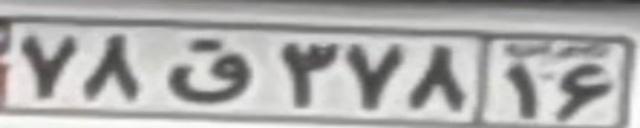1: (498, 63, 539, 118)
3: (279, 41, 338, 108)
6: (549, 60, 616, 119)
7: (17, 33, 75, 102), (347, 42, 400, 109)
8: (83, 33, 139, 100), (408, 44, 464, 110)
ghaf: (168, 39, 252, 102)
